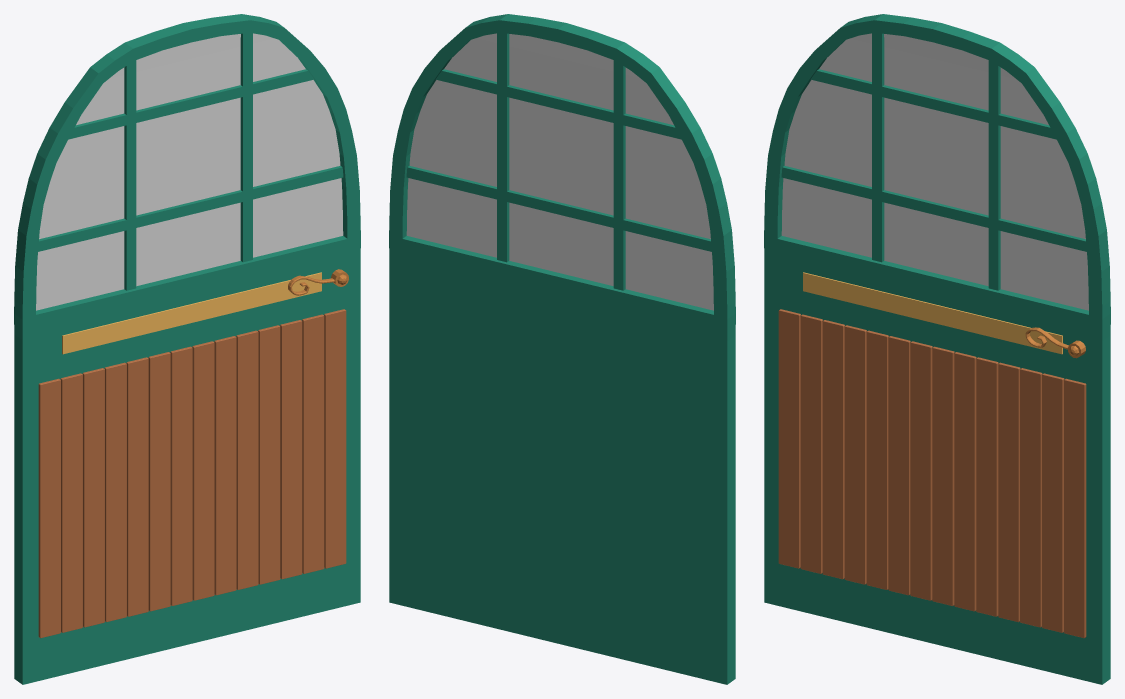
The model's file is Door.fbx.
The picture shows the model from 3 angles, left to right: view 1: azimuth 30°, elevation 25°; view 2: azimuth 150°, elevation 25°; view 3: azimuth 330°, elevation 25°; orthographic projection.
Visible parts, largest first — view 1: Door_base_mirror; view 2: Door_base_mirror; view 3: Door_base_mirror.
Part boxes in pixels (box(x1,y1,x2,y2)): Door_base_mirror: box(14, 14, 360, 684); Door_base_mirror: box(389, 14, 735, 684); Door_base_mirror: box(764, 14, 1110, 684).
Bounding box in the file's own units: 148 × 257 × 11.58.
